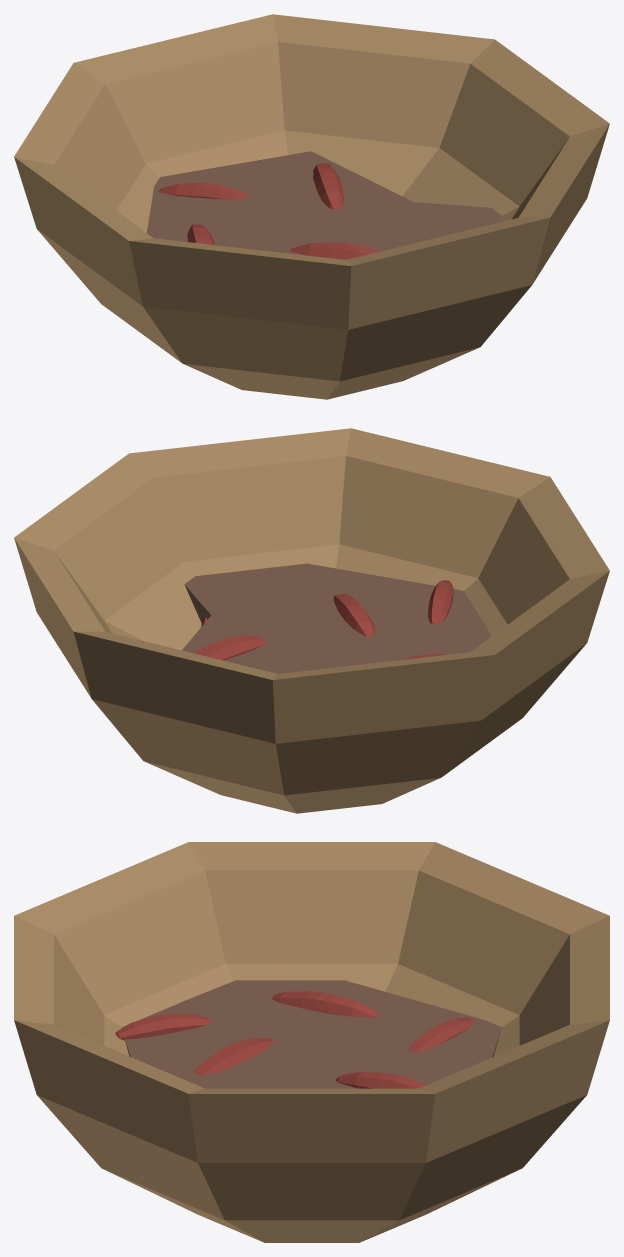
File: poisonBowl.fbx
The picture shows the model from 3 angles, top to bottom: view 1: azimuth 30°, elevation 25°; view 2: azimuth 150°, elevation 25°; view 3: azimuth 270°, elevation 25°; orthographic projection. The views are drawn at different scales.
Parts seen in each view (by area): view 1: Sphere, worm; view 2: Sphere, worm; view 3: Sphere, worm.
Boxes of the visible parts, x1,y1,x2,y2 form: Sphere: (14, 14, 609, 399); worm: (159, 163, 380, 259); Sphere: (14, 428, 609, 813); worm: (193, 580, 453, 660); Sphere: (14, 842, 609, 1242); worm: (115, 991, 474, 1088).
Size of the model in its own units: 185 by 77.57 by 185.
